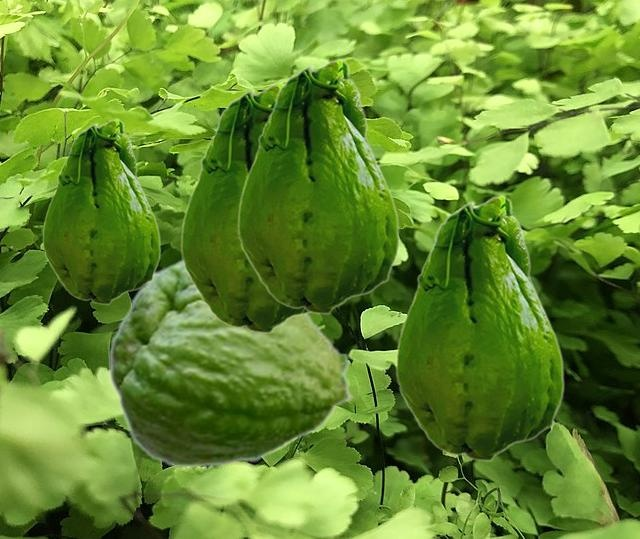sayote: (108, 256, 354, 468), (395, 194, 564, 461), (237, 58, 399, 314), (180, 82, 309, 333), (42, 118, 160, 304)
